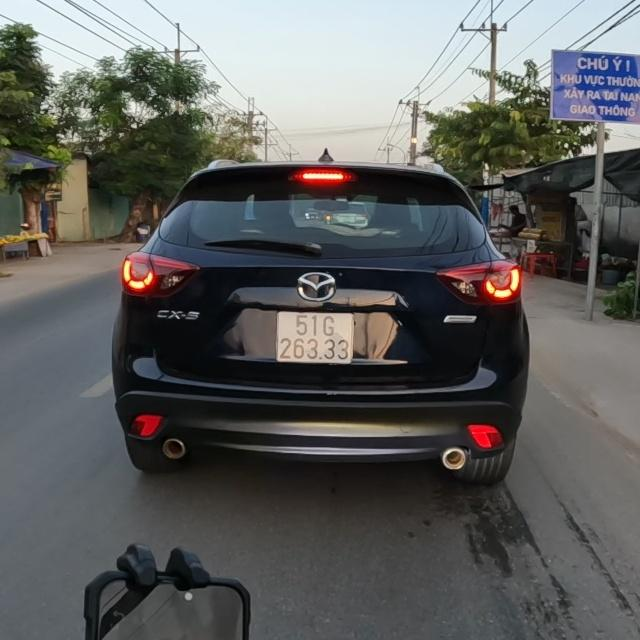license-plate: (273, 310, 355, 366)
